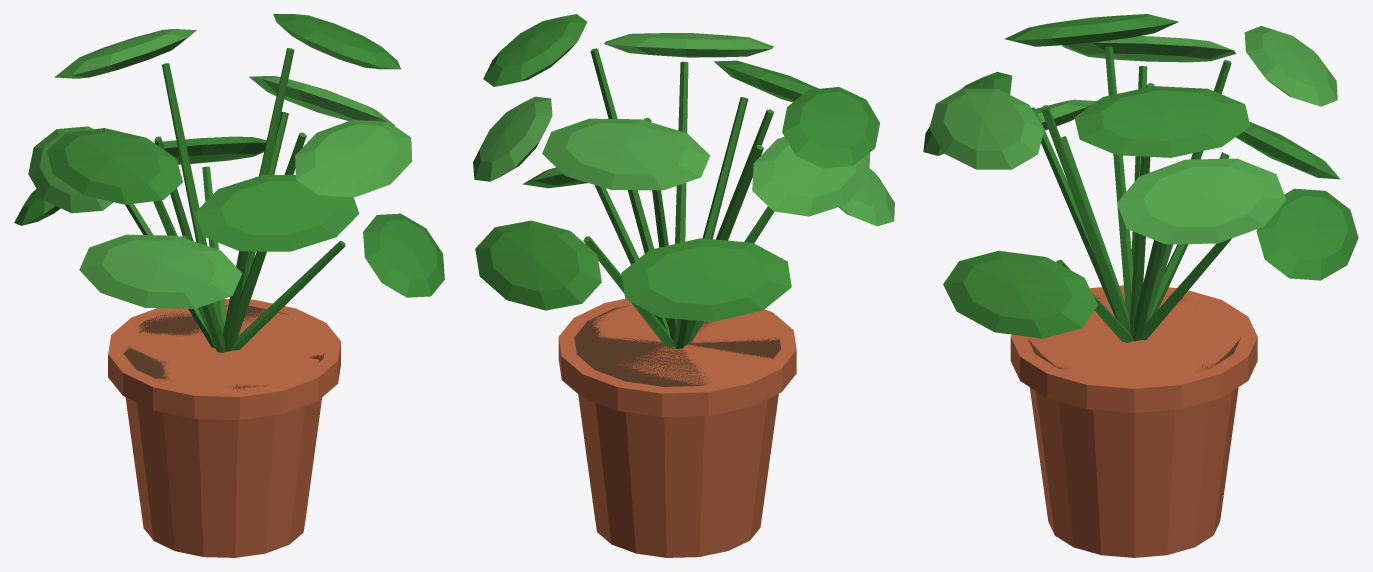
Rendered from home_plant_v01.glb.
The picture shows the model from 3 angles, left to right: view 1: azimuth 30°, elevation 25°; view 2: azimuth 150°, elevation 25°; view 3: azimuth 270°, elevation 25°; orthographic projection. The views are drawn at different scales.
Parts seen in each view (by area): view 1: plant; view 2: plant; view 3: plant.
Part boxes in pixels (box(x1,y1,x2,y2)): plant: box(14, 14, 444, 557); plant: box(473, 14, 894, 557); plant: box(923, 14, 1358, 557).
Size of the model in its own units: 0.7912 by 0.9933 by 0.8104.
